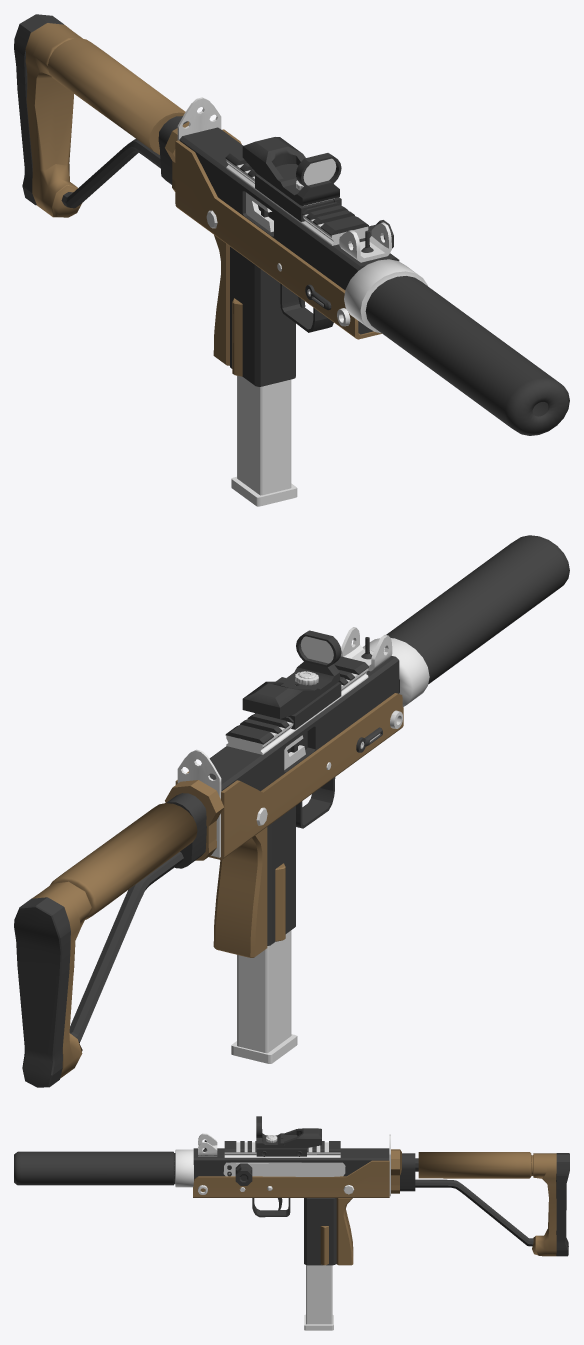
Rendered from Weapon_14.fbx.
3 renders of one model, top to bottom at view 1: azimuth 30°, elevation 25°; view 2: azimuth 150°, elevation 25°; view 3: azimuth 270°, elevation 25°, orthographic. The views are drawn at different scales.
Visible parts, largest first — view 1: Weapon_14; view 2: Weapon_14; view 3: Weapon_14.
Boxes of the visible parts, left/top/right/bottom form: Weapon_14: left=14, top=14, right=569, bottom=506; Weapon_14: left=14, top=535, right=569, bottom=1087; Weapon_14: left=14, top=1116, right=569, bottom=1330.
Bounding box in the file's own units: 11.16 × 45.17 × 111.
